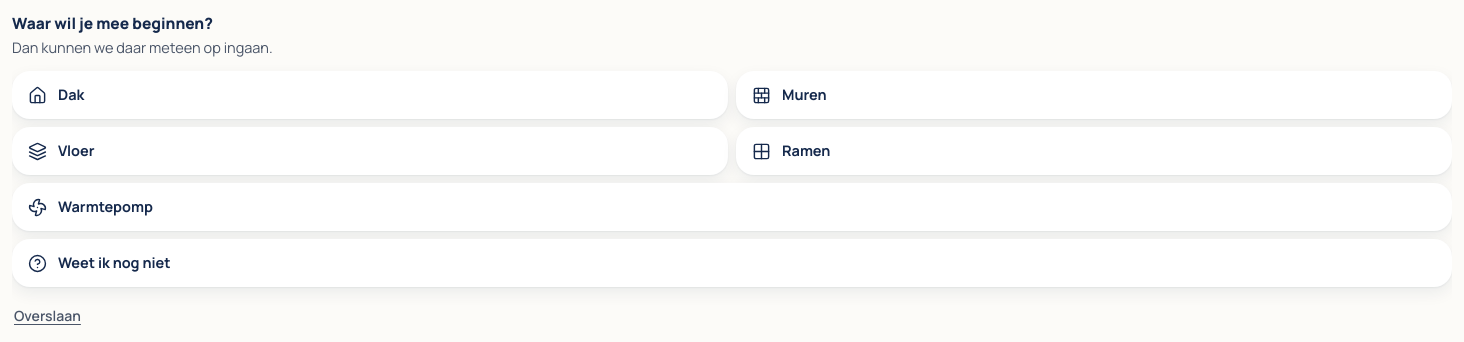
Test: waar wil je mee beginnen? › één tik bewaart meteen, zonder bevestigknop
Click the radio button labelled "Vloer" at (76, 151), box [12,127,728,175]
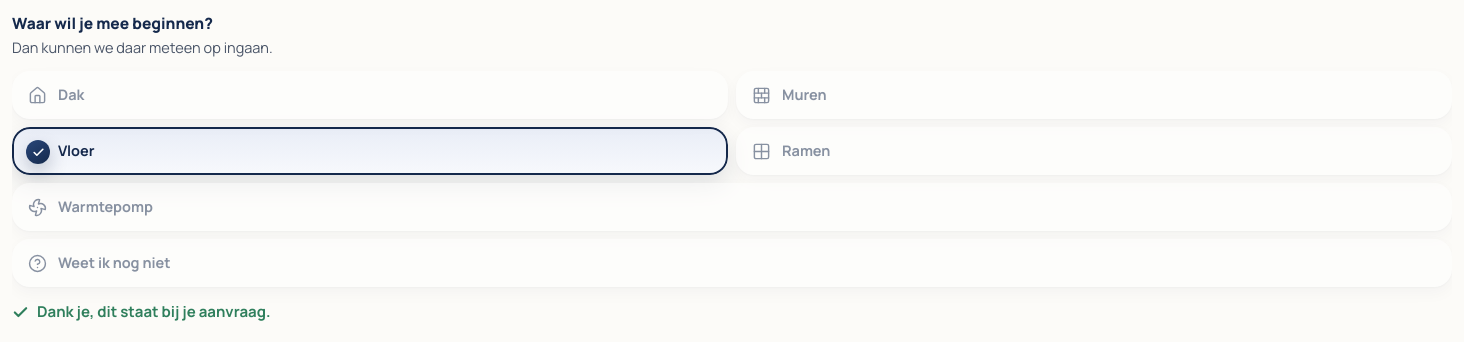
Expected: the text "Dank je, dit staat bij je aanvraag." is shown, [12,301,270,322]
